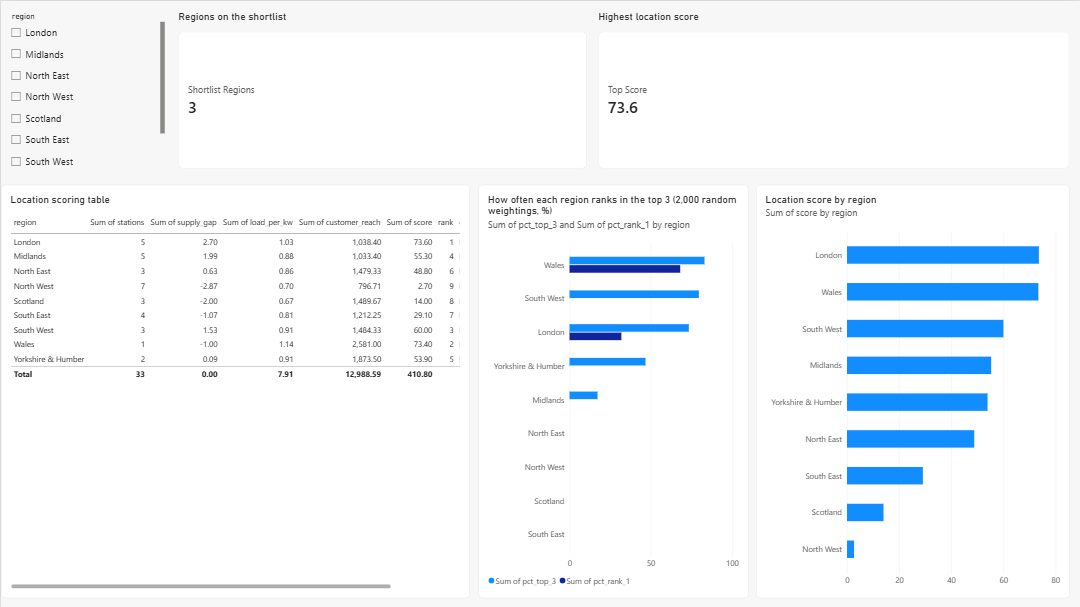

What the dashboard file says about the page in this screenshot:
{"tool":"powerbi","page":{"name":"Location_Score","canvas":[1920,1080],"ordinal":2},"visuals":[{"type":"slicer","fields":{"Values":["Dim_Region.region"]},"box":[11.1,17.8,280,280],"z":0},{"type":"cardVisual","title":"Regions on the shortlist","fields":{"Data":["location_scores.Shortlist Regions"]},"box":[315.6,17.8,726.7,280],"z":1},{"type":"cardVisual","title":"Highest location score","fields":{"Data":["location_scores.Top Score"]},"box":[1062.2,17.8,837.8,280],"z":2},{"type":"clusteredBarChart","title":"Location score by region","fields":{"Category":["location_scores.region"],"Y":["Sum(location_scores.score)"]},"box":[1342.2,326.7,557.8,735.6],"z":4},{"type":"clusteredBarChart","title":"How often each region ranks in the top 3 (2,000 random weightings, %)","fields":{"Category":["ranking_stability.region"],"Y":["Sum(ranking_stability.pct_top_3)","Sum(ranking_stability.pct_rank_1)"]},"box":[848.9,326.7,480,735.6],"z":5},{"type":"tableEx","title":"Location scoring table","fields":{"Values":["location_scores.region","Sum(location_scores.stations)","Sum(location_scores.supply_gap)","Sum(location_scores.load_per_kw)","Sum(location_scores.customer_reach)","Sum(location_scores.score)","location_scores.rank","location_scores.evidence"]},"box":[0,326.7,833.3,735.6],"z":6}]}

Visuals, with their boxes in screenshot pixels (x1, y1, x2, y2), scaled from the page's 1920x1080 canvas onto the 1080x607 screenshot:
slicer - Dim_Region.region: <region>6, 10, 164, 167</region>
"Regions on the shortlist" cardVisual: <region>178, 10, 586, 167</region>
"Highest location score" cardVisual: <region>597, 10, 1069, 167</region>
"Location score by region" clusteredBarChart: <region>755, 184, 1069, 597</region>
"How often each region ranks in the top 3 (2,000 random weightings, %)" clusteredBarChart: <region>478, 184, 748, 597</region>
"Location scoring table" tableEx: <region>0, 184, 469, 597</region>
